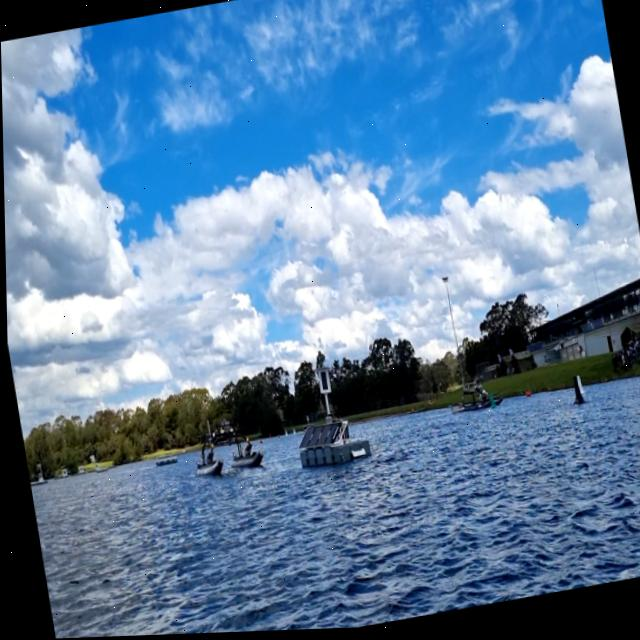led: (317, 372, 328, 393)
